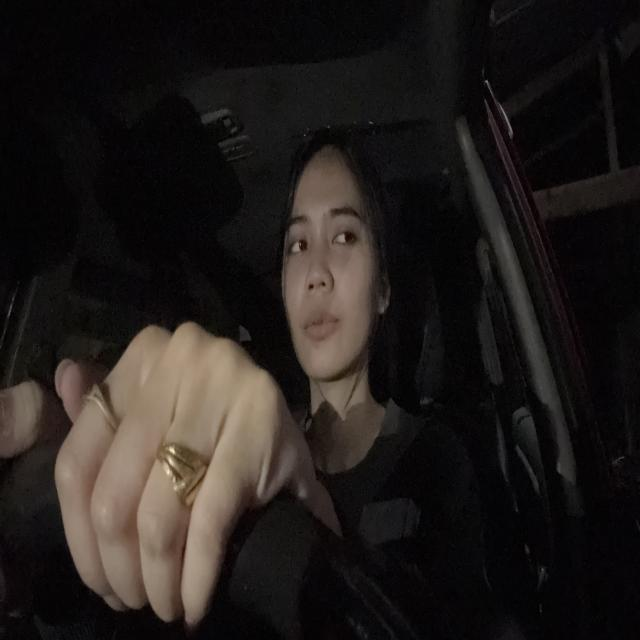open: (326, 202, 368, 260), (285, 206, 313, 274)
